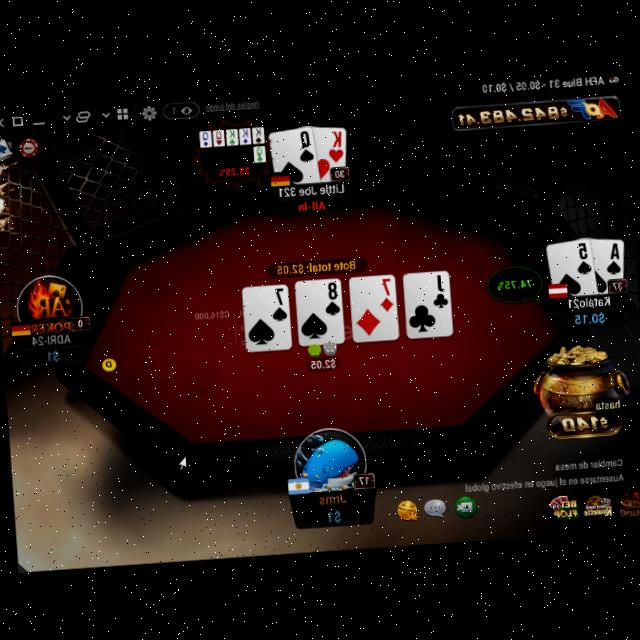5s: (572, 236, 594, 273)
7d: (376, 274, 396, 312)
7s: (268, 285, 288, 321)
8s: (322, 276, 342, 316)
As: (602, 239, 623, 276)
Jc: (428, 270, 448, 307)
Kh: (324, 125, 344, 162)
Qs: (296, 125, 316, 162)
all_in_symbol: (296, 196, 328, 212)
bet_text: (309, 354, 337, 368)
dealer: (99, 353, 118, 371)
pot_text: (273, 257, 355, 274)
stack_text: (572, 306, 606, 322), (324, 504, 342, 522), (45, 345, 60, 360)
